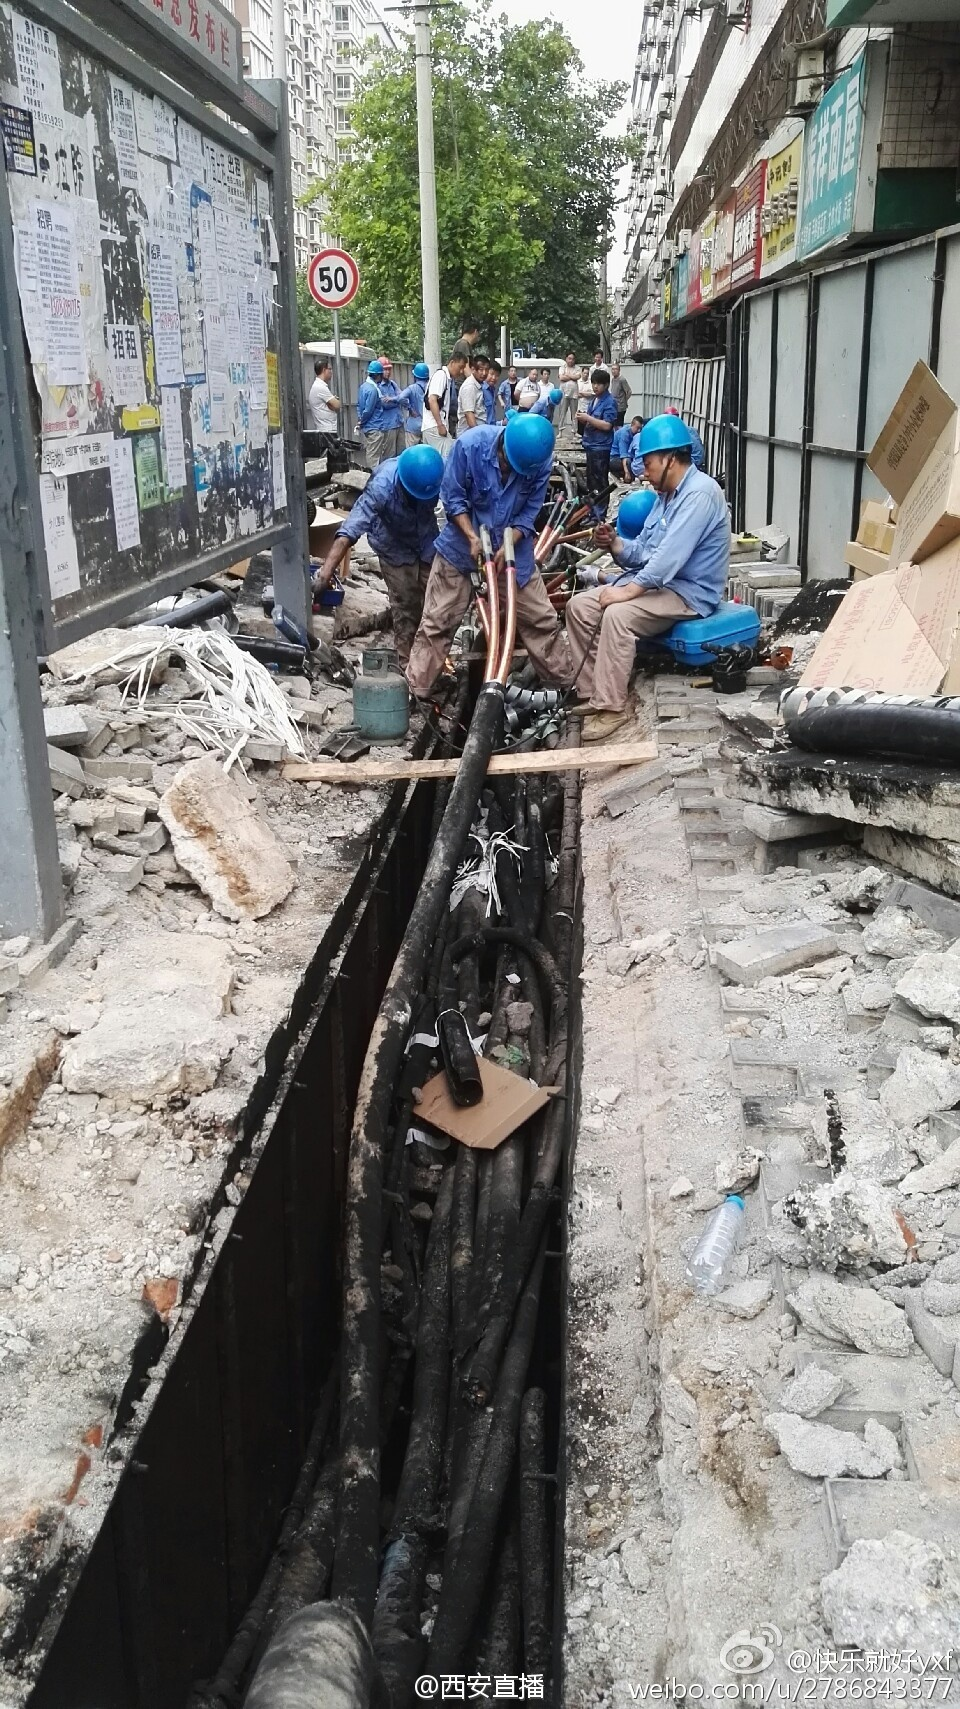blue: (641, 413, 691, 492), (496, 411, 556, 477), (396, 443, 444, 504), (365, 362, 384, 384), (411, 362, 430, 384), (546, 389, 563, 407)
none: (445, 351, 467, 378), (589, 369, 611, 396), (460, 320, 482, 346), (312, 358, 333, 381), (471, 354, 488, 383), (485, 362, 502, 385), (629, 416, 644, 433), (564, 351, 576, 366), (591, 350, 603, 364), (506, 365, 518, 378), (580, 366, 590, 380), (527, 367, 538, 381), (540, 367, 550, 381), (610, 362, 620, 377)
red: (376, 356, 392, 379)
